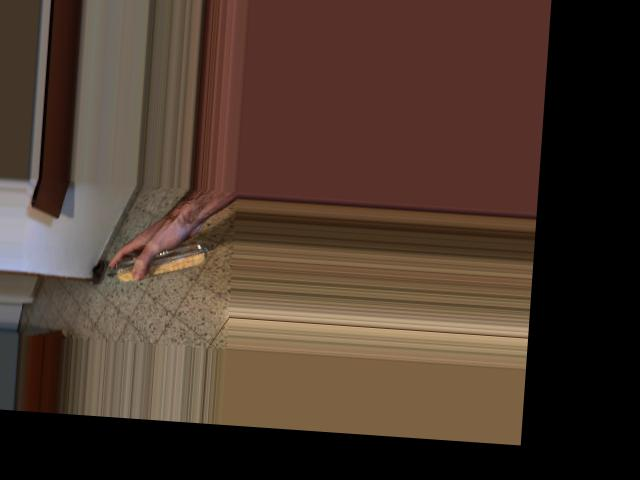cheese: (101, 212, 199, 298)
